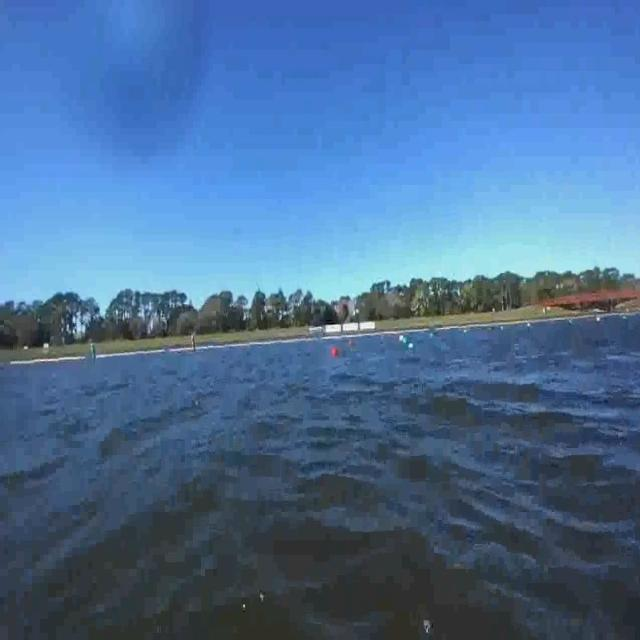red-buoy: (331, 348, 339, 356)
